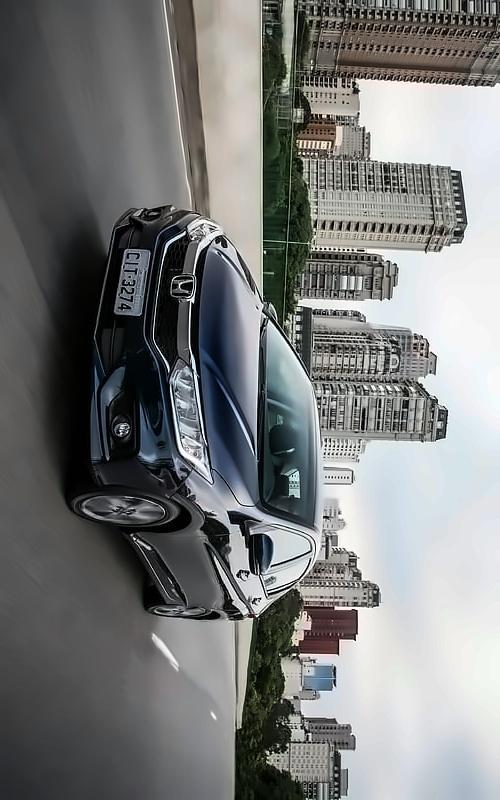Car hood: (186, 229, 259, 509)
Fender - -F-L-: (110, 472, 299, 545)
Front bumper: (86, 200, 193, 496)
Headlight - -L-: (166, 356, 213, 484)
Headlight - -R-: (183, 214, 222, 251)
Passenger-s door - -F-L-: (118, 509, 328, 569)
Passenger-s door - -R-L-: (139, 549, 324, 610)
Side bumper - -L-: (115, 525, 194, 615)
Side mirror - -L-: (229, 516, 274, 576)
